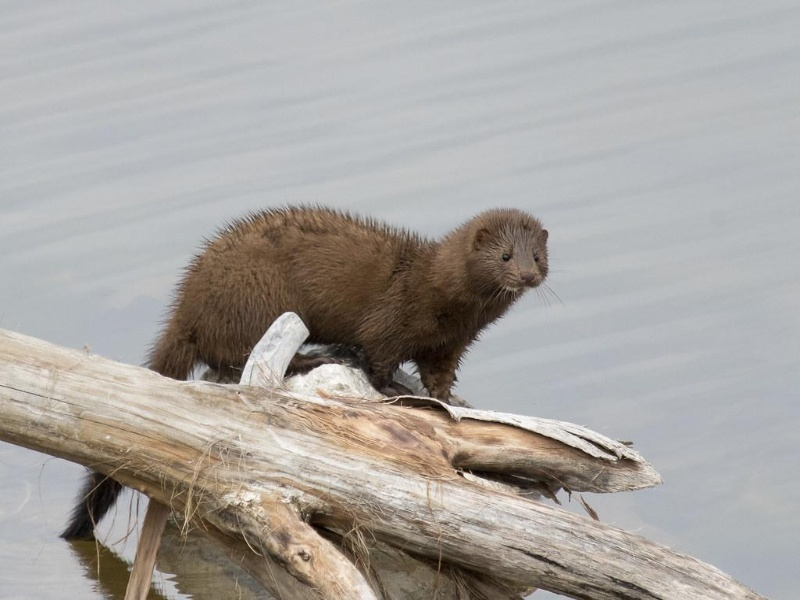minkish: (64, 203, 552, 544)
